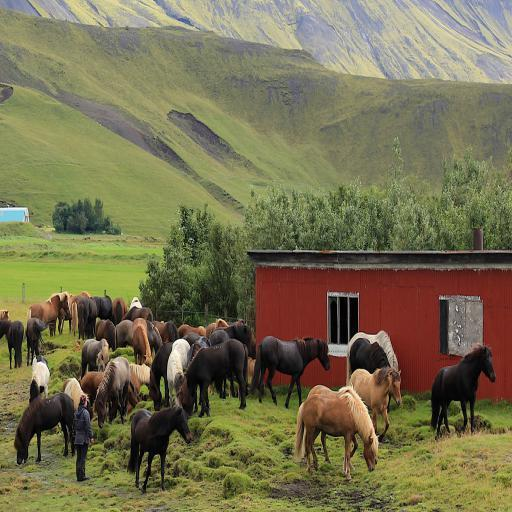horse: (0, 294, 331, 496), (294, 328, 402, 480), (429, 344, 496, 439)
